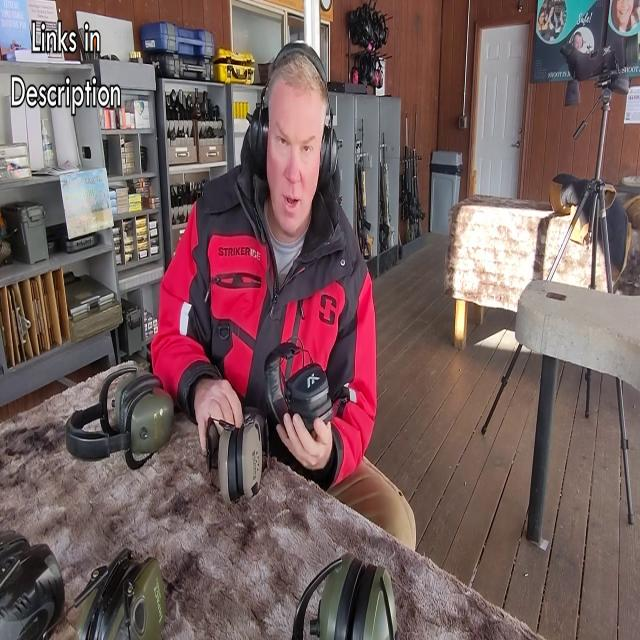earmuff: (244, 99, 270, 169), (320, 117, 344, 187)
